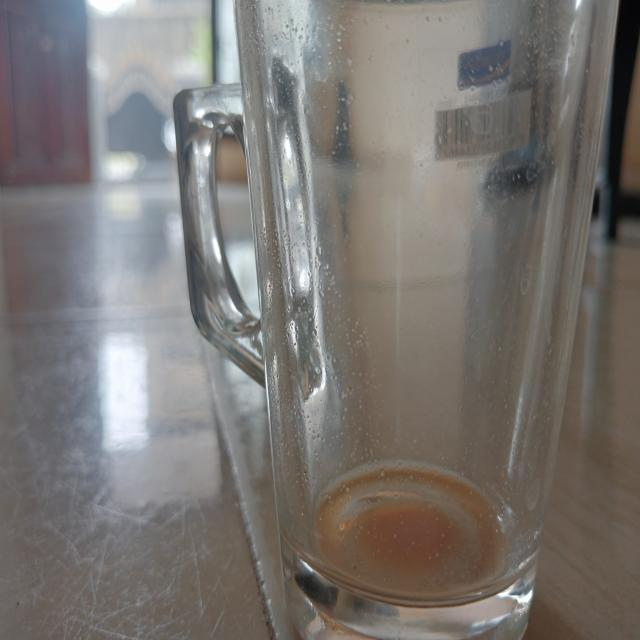glass-VX4N: (175, 0, 618, 640)
